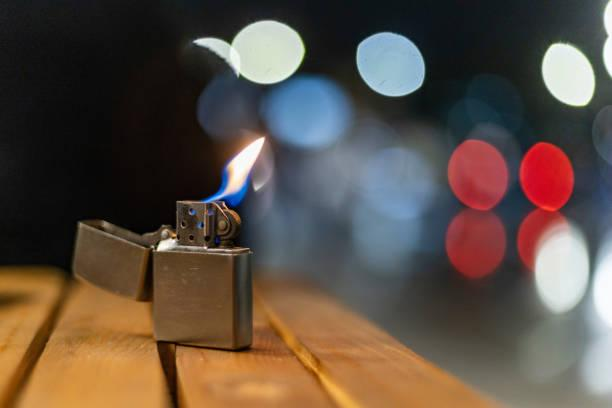Fire: (188, 133, 271, 207)
